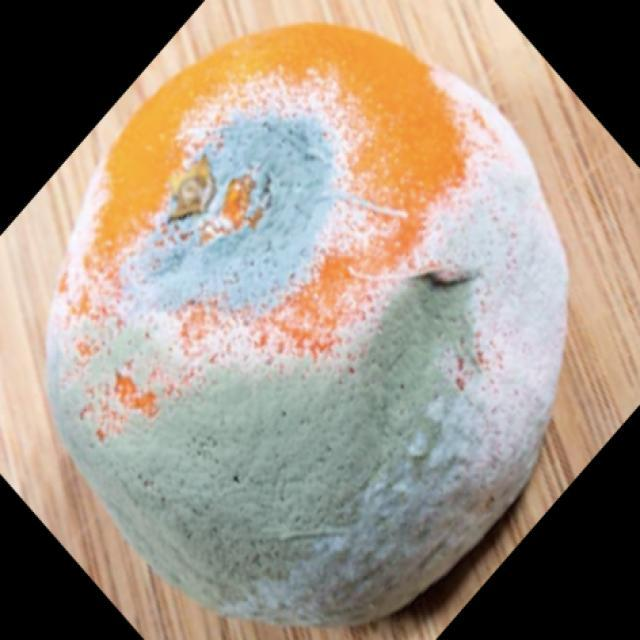sangat-busuk: (48, 23, 566, 623)
